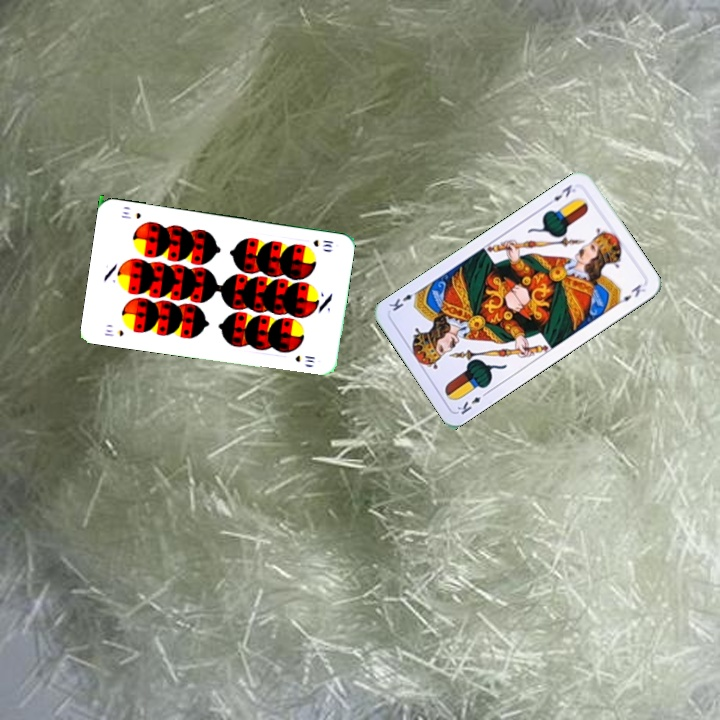EK: (453, 387, 491, 417), (543, 180, 579, 208)
S10: (309, 236, 336, 250), (100, 325, 126, 339)
